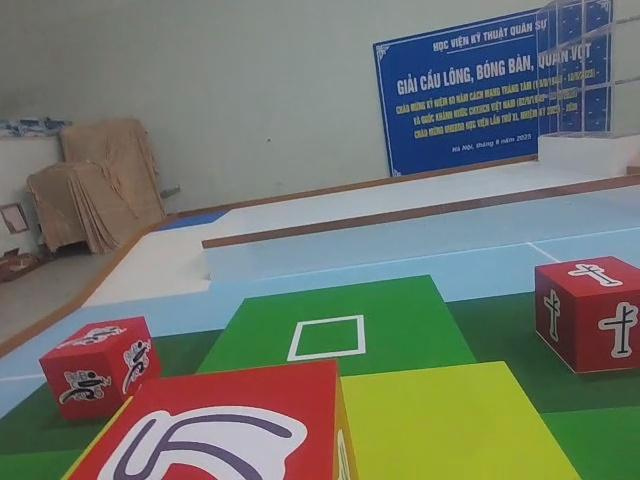R1: (38, 314, 165, 415)
R2 Fake: (64, 356, 359, 480)
R2 Real: (535, 254, 640, 374)
